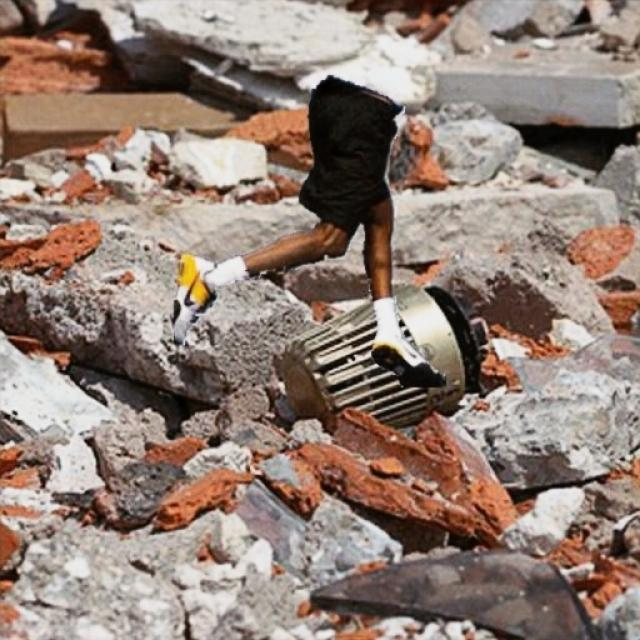Person in Rubble: (174, 75, 445, 386)
